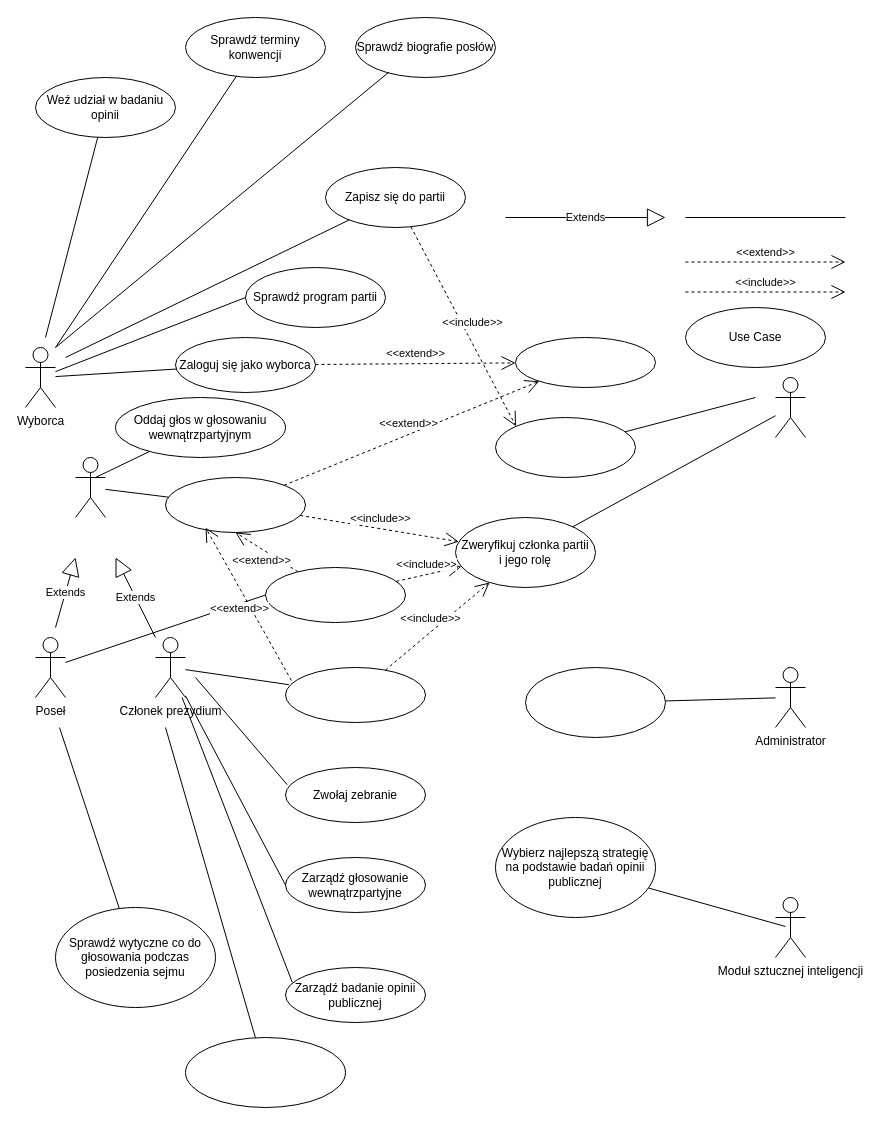
Some shapes in this 880 by 1125 pixel diagram are drawn without their labels. The shapes that lost their labels are listed below. From the top down, each one's box as (x1, y1, x2, y2) in pixels, then its label:
(514, 336, 656, 388): Zaloguj się
(774, 376, 806, 438): System weryfikacji
(494, 416, 636, 478): Zweryfikuj kandydata na członka partii
(74, 456, 106, 518): Członek partii
(164, 476, 306, 532): Zaloguj się jako członek partii
(264, 566, 406, 622): Zaloguj się jako poseł
(284, 666, 426, 722): Zaloguj się jako członek prezydium
(524, 666, 666, 738): Uaktualnij dane do weryfikacji
(184, 1036, 346, 1108): Przygotuj wytyczne dla posłów odnośnie głosowań
